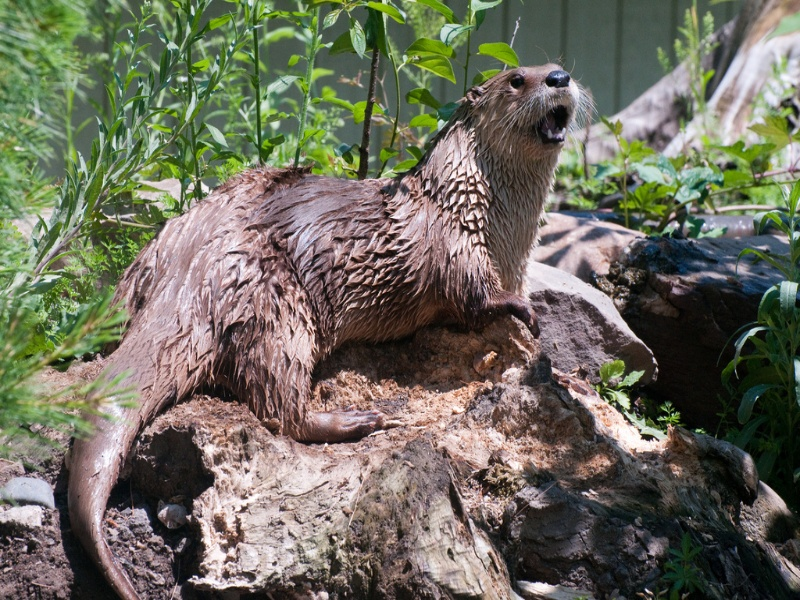minkish: (86, 62, 582, 472)
